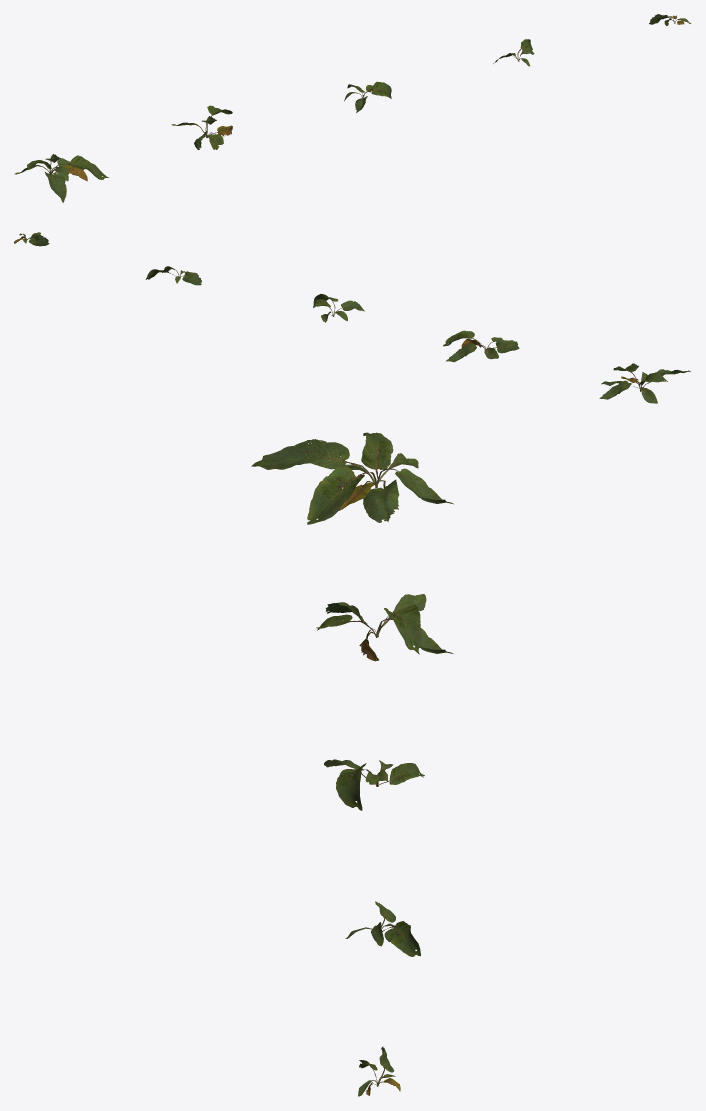
File: ph-weed_plant_02.glb
The picture shows the model from 3 angles, top to bottom: view 1: azimuth 30°, elevation 25°; view 2: azimuth 150°, elevation 25°; view 3: azimuth 270°, elevation 25°; orthographic projection. The views are drawn at different scales.
Visible parts, largest first — view 1: weed_plant_02_a_LOD0, weed_plant_02_c_LOD0; view 2: weed_plant_02_a_LOD0, weed_plant_02_c_LOD0; view 3: weed_plant_02_a_LOD0, weed_plant_02_c_LOD0.
Boxes of the visible parts, <box> form: weed_plant_02_a_LOD0: <box>14,14,691,202</box>; weed_plant_02_c_LOD0: <box>344,81,391,112</box>; weed_plant_02_a_LOD0: <box>14,232,690,403</box>; weed_plant_02_c_LOD0: <box>313,294,364,322</box>; weed_plant_02_a_LOD0: <box>251,432,454,1096</box>; weed_plant_02_c_LOD0: <box>324,759,424,810</box>.
Bounding box in the file's own units: 2.13 × 0.0747 × 0.2908.
Materials: 1 (1 with a texture image).
